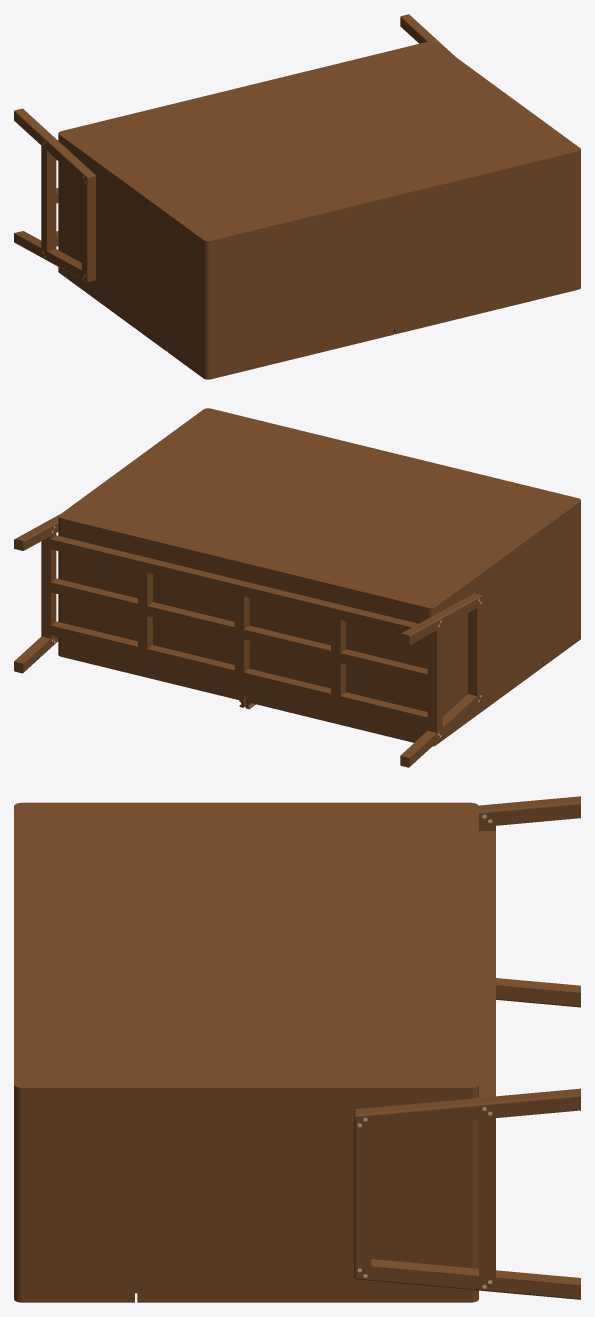
3 views of the same model, one above another, from view 1: azimuth 30°, elevation 25°; view 2: azimuth 150°, elevation 25°; view 3: azimuth 270°, elevation 25° (orthographic). The views are drawn at different scales.
Visible parts, largest first — view 1: Body2:4, Bovenkant, Linkerkant, Poot_LM_2, Poot_LA, Body4:4, Poot_LM_1, Body10, Hoeken (2), Poot_LV, Onderkant, Body7 (+3 smaller); view 2: Body2:4, Onderkant, Linkerkant, Body1:6, Poot_M, Body1:7, Body7, Poot_LM_2, Poot_RM_2, Poot_LV, Poot_LA, Poot_LM_1 (+11 smaller); view 3: Body2:4, Rechterkant, Poot_RA, Poot_RV, Body1:7, Deur, Poot_RM_2, Poot_RM_1, Hoeken (3), Onderkant, Bovenkant, Poot_LA (+4 smaller).
Part boxes in pixels (x1=…): Body2:4: x1=63, y1=43, x2=575, y2=238; Bovenkant: x1=210, y1=150, x2=577, y2=372; Linkerkant: x1=59, y1=133, x2=206, y2=371; Poot_LM_2: x1=41, y1=133, x2=56, y2=250; Poot_LA: x1=14, y1=108, x2=91, y2=186; Body4:4: x1=167, y1=329, x2=393, y2=379; Poot_LM_1: x1=81, y1=170, x2=95, y2=281; Body10: x1=394, y1=282, x2=580, y2=334; Hoeken (2): x1=203, y1=238, x2=211, y2=373; Poot_LV: x1=14, y1=231, x2=91, y2=282; Onderkant: x1=62, y1=42, x2=429, y2=132; Body7: x1=58, y1=267, x2=167, y2=351; Body2:4: x1=64, y1=410, x2=575, y2=605; Onderkant: x1=62, y1=517, x2=428, y2=737; Linkerkant: x1=433, y1=500, x2=579, y2=722; Body1:6: x1=51, y1=578, x2=427, y2=684; Poot_M: x1=51, y1=621, x2=427, y2=727; Body1:7: x1=51, y1=535, x2=427, y2=640; Body7: x1=245, y1=661, x2=543, y2=746; Poot_LM_2: x1=427, y1=615, x2=442, y2=732; Poot_RM_2: x1=41, y1=522, x2=56, y2=647; Poot_LV: x1=400, y1=692, x2=482, y2=767; Poot_LA: x1=400, y1=594, x2=482, y2=645; Poot_LM_1: x1=468, y1=593, x2=482, y2=695; Body2:4: x1=21, y1=806, x2=471, y2=1084; Rechterkant: x1=24, y1=1084, x2=468, y2=1293; Poot_RA: x1=354, y1=1088, x2=580, y2=1130; Poot_RV: x1=354, y1=1259, x2=580, y2=1299; Body1:7: x1=479, y1=831, x2=495, y2=1097; Deur: x1=137, y1=1291, x2=478, y2=1302; Poot_RM_2: x1=479, y1=1096, x2=495, y2=1277; Poot_RM_1: x1=354, y1=1107, x2=371, y2=1265; Hoeken (3): x1=14, y1=1083, x2=24, y2=1293; Onderkant: x1=471, y1=807, x2=478, y2=1083; Bovenkant: x1=14, y1=807, x2=21, y2=1083; Poot_LA: x1=479, y1=796, x2=580, y2=825.
Size of the model in its own units: 125 by 43.8 by 100.
